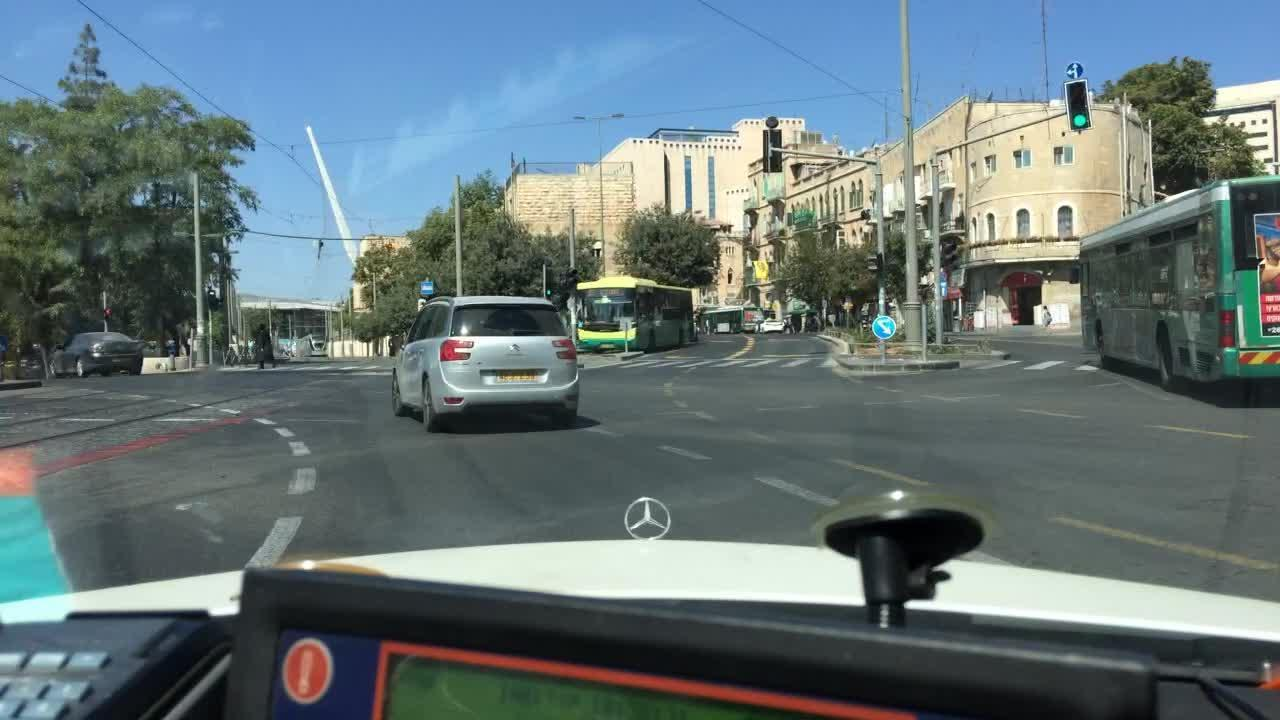Mercedes: (607, 479, 680, 550)
